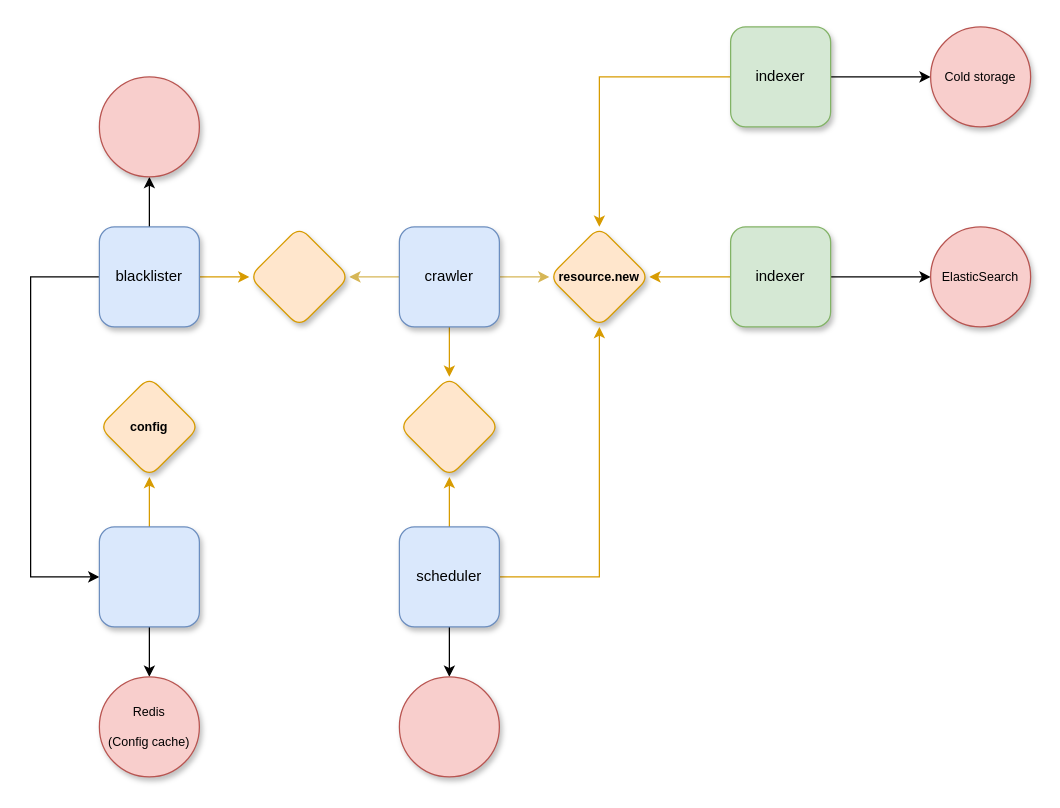
The diagram is 1060 pixels wide and 808 high, and some of its shapes have lost their labels. The centre of each missing label's shape, as x and y in pixels:
ConfigAPI: the point at 150,578
Redis (Hostname cache): the point at 150,128
Redis (URL cache): the point at 450,728
url.new: the point at 450,428
url.timeout: the point at 300,278
